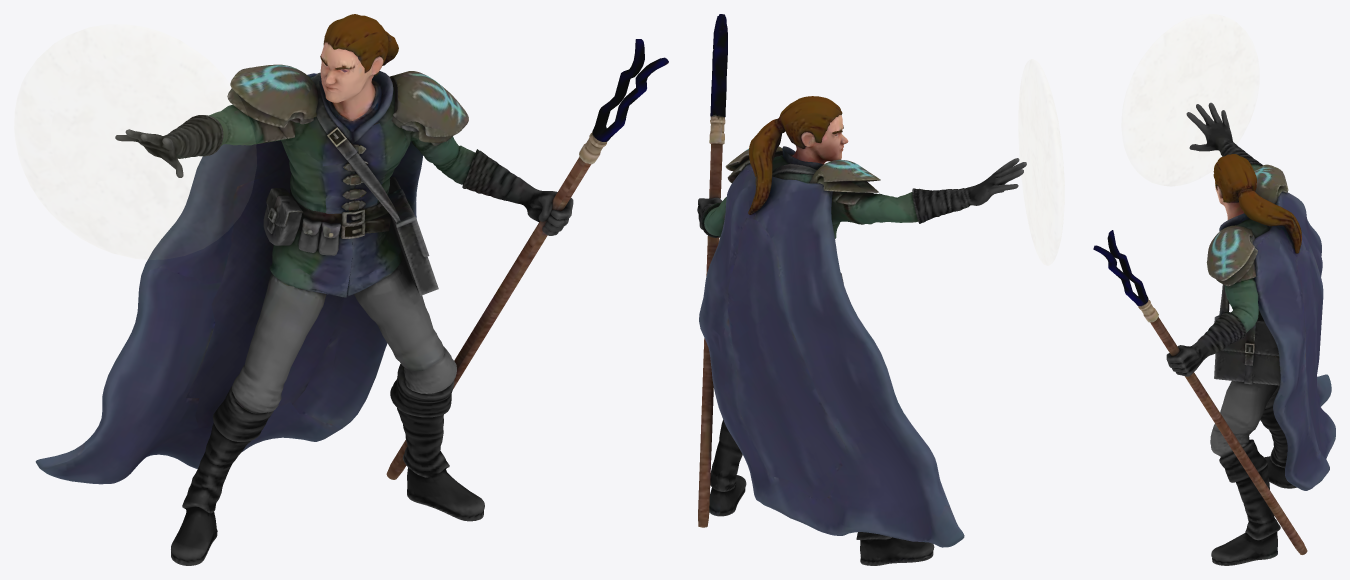
Rendered from MZ4250 - Human Male Abjuration Wizard with Shield spell_1.glb.
3 renders of one model, left to right at view 1: azimuth 30°, elevation 25°; view 2: azimuth 150°, elevation 25°; view 3: azimuth 270°, elevation 25°, orthographic. The views are drawn at different scales.
Parts seen in each view (by area): view 1: HMA1; view 2: HMA1; view 3: HMA1.
Part boxes in pixels (x1=…): HMA1: x1=35, y1=14, x2=668, y2=565; HMA1: x1=697, y1=14, x2=1026, y2=565; HMA1: x1=1093, y1=102, x2=1335, y2=565.
Size of the model in its own units: 88.72 by 93.38 by 48.95.
2 materials, 2 textured.
